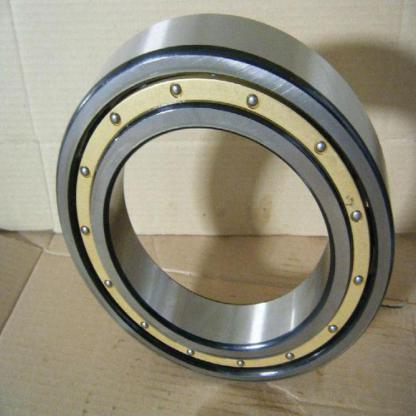FOD: (53, 5, 396, 386)
